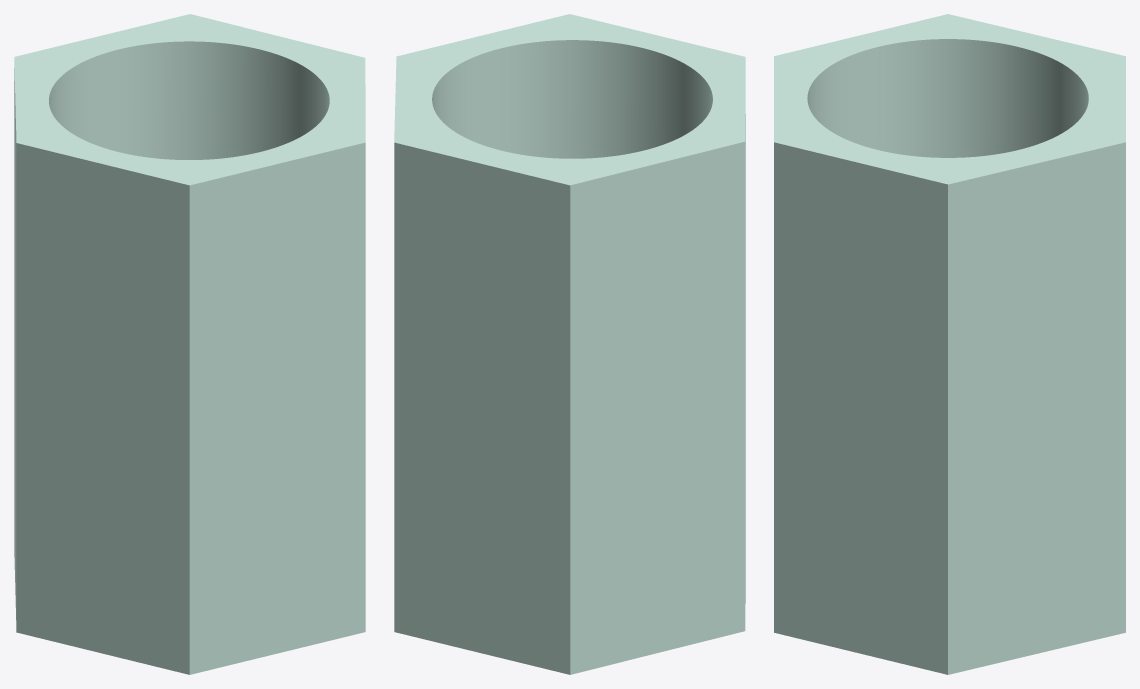
3 renders of one model, left to right at view 1: azimuth 30°, elevation 25°; view 2: azimuth 150°, elevation 25°; view 3: azimuth 270°, elevation 25°, orthographic.
Parts seen in each view (by area): view 1: Renderer Node; view 2: Renderer Node; view 3: Renderer Node.
Part boxes in pixels (x1,y1,x2,y2): Renderer Node: [14, 14, 365, 674]; Renderer Node: [394, 14, 745, 674]; Renderer Node: [774, 14, 1125, 674].
Size of the model in its own units: 0.3496 by 0.4688 by 0.3047.
